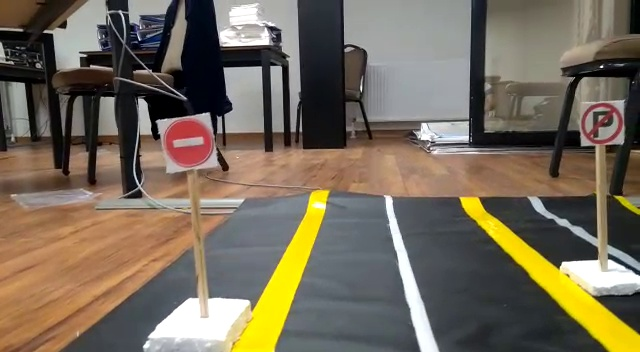girisi_olmayan_yol: (159, 118, 215, 167)
park_yapilmaz: (581, 97, 623, 145)
